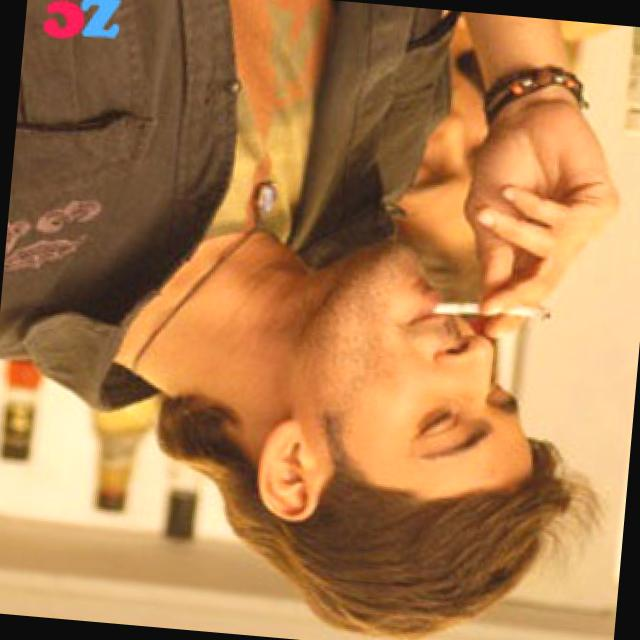cigarette: (430, 296, 554, 326)
